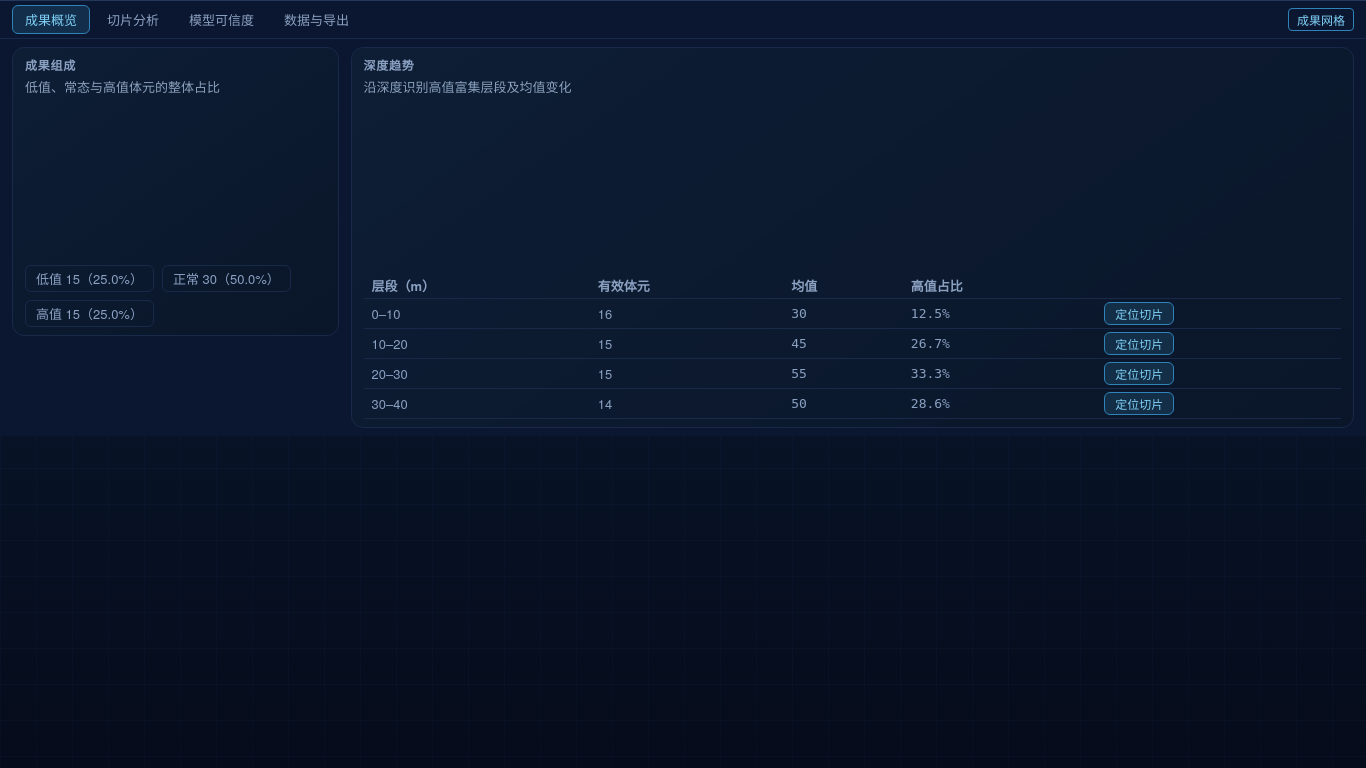
ResultGridEvidence（V6 四标签） › 机器学习成果在模型可信度中展示基线比较证据
Click the tab with test id "ge-tab-model".
click(222, 20)  # box [176,5,267,34]
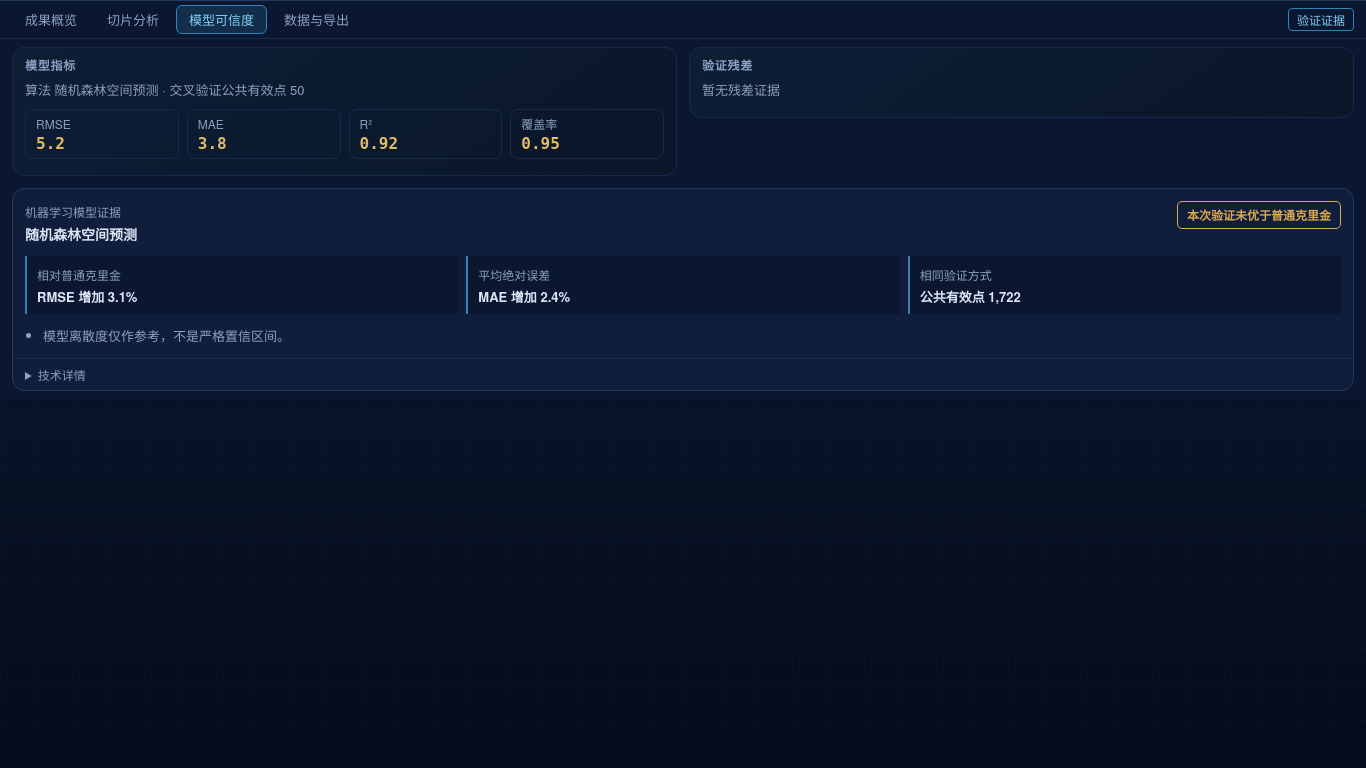
Result: the element with test id "ml-model-evidence" shows "未优于普通克里金" at [1187,206,1331,224]
Result: the element with test id "ge-pane-model" shows "随机森林空间预测" at [25,224,137,244]
